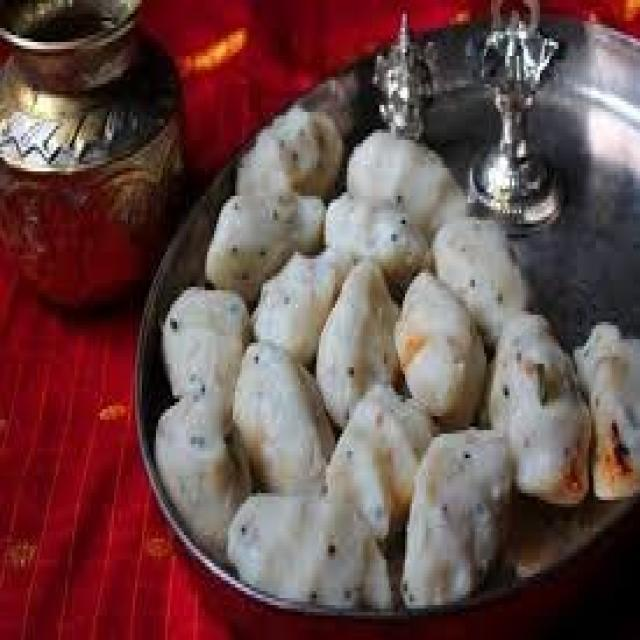pidi kolukattai: (122, 59, 640, 640)
